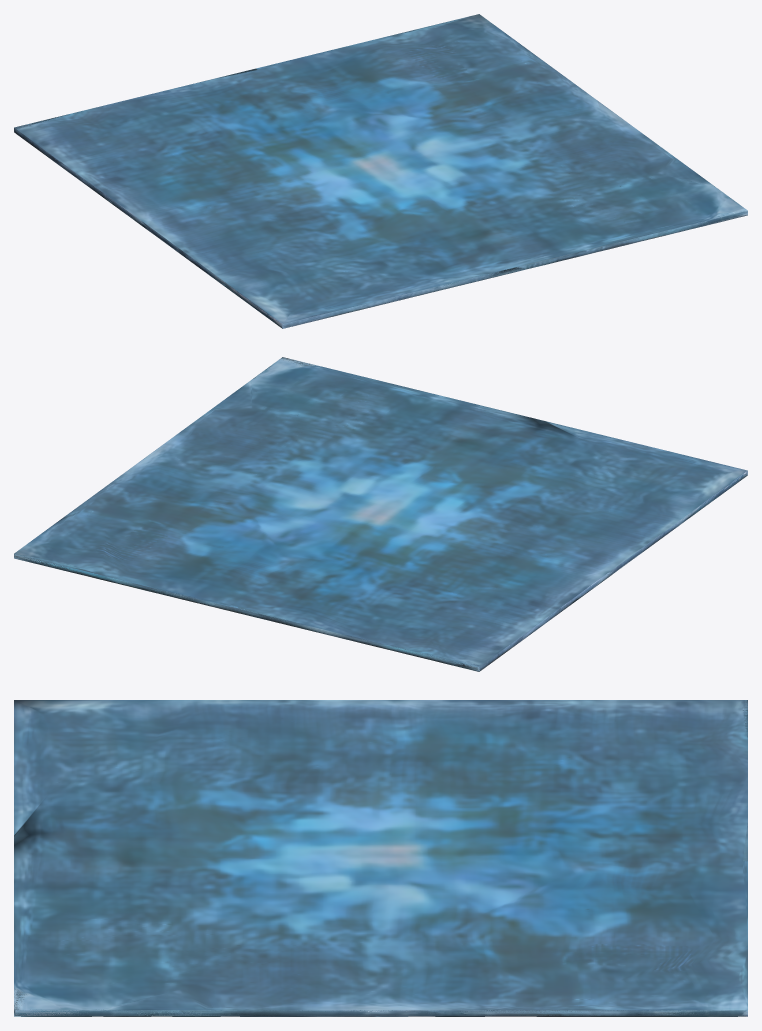
3 views of the same model, one above another, from view 1: azimuth 30°, elevation 25°; view 2: azimuth 150°, elevation 25°; view 3: azimuth 270°, elevation 25° (orthographic). The views are drawn at different scales.
Visible parts, largest first — view 1: ice-ground.001; view 2: ice-ground.001; view 3: ice-ground.001.
Part boxes in pixels (left/top/right/bottom): ice-ground.001: left=14, top=14, right=747, bottom=328; ice-ground.001: left=14, top=357, right=747, bottom=671; ice-ground.001: left=14, top=700, right=747, bottom=1016.
Size of the model in its own units: 32 by 0.3511 by 32.
1 material, 1 textured.
